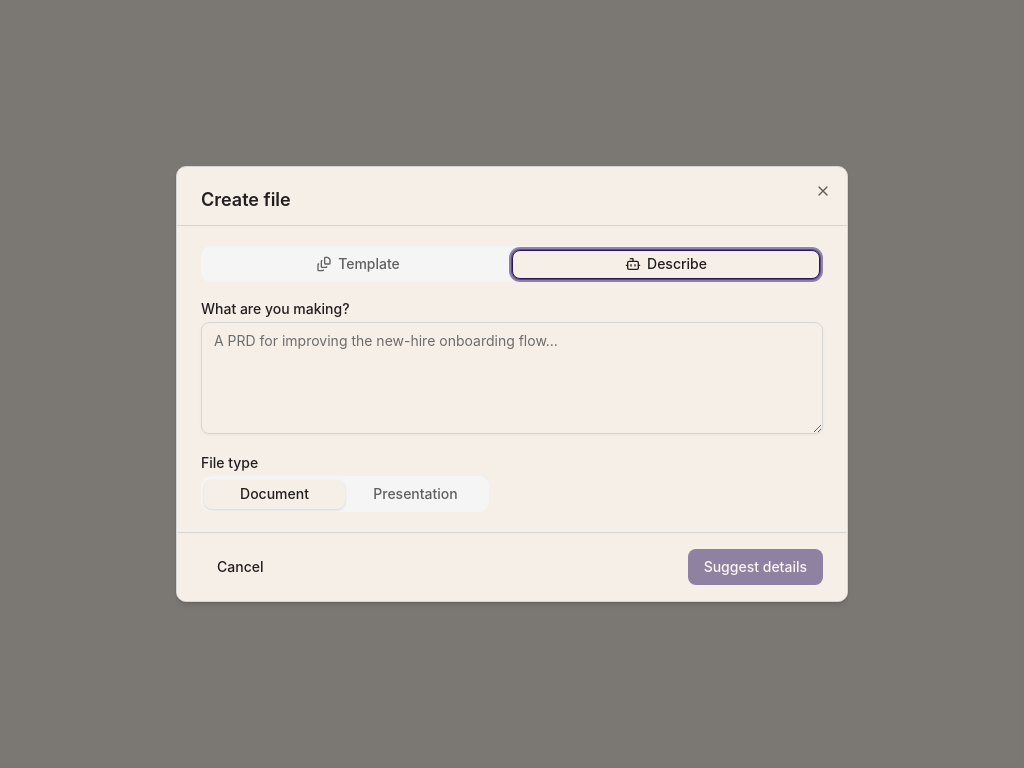
Test case: SmartCreateDialog › uses TemplateMode without invoking Gemini
Press the mouse on the tab "Template" at (358, 264), box [204,250,512,278]
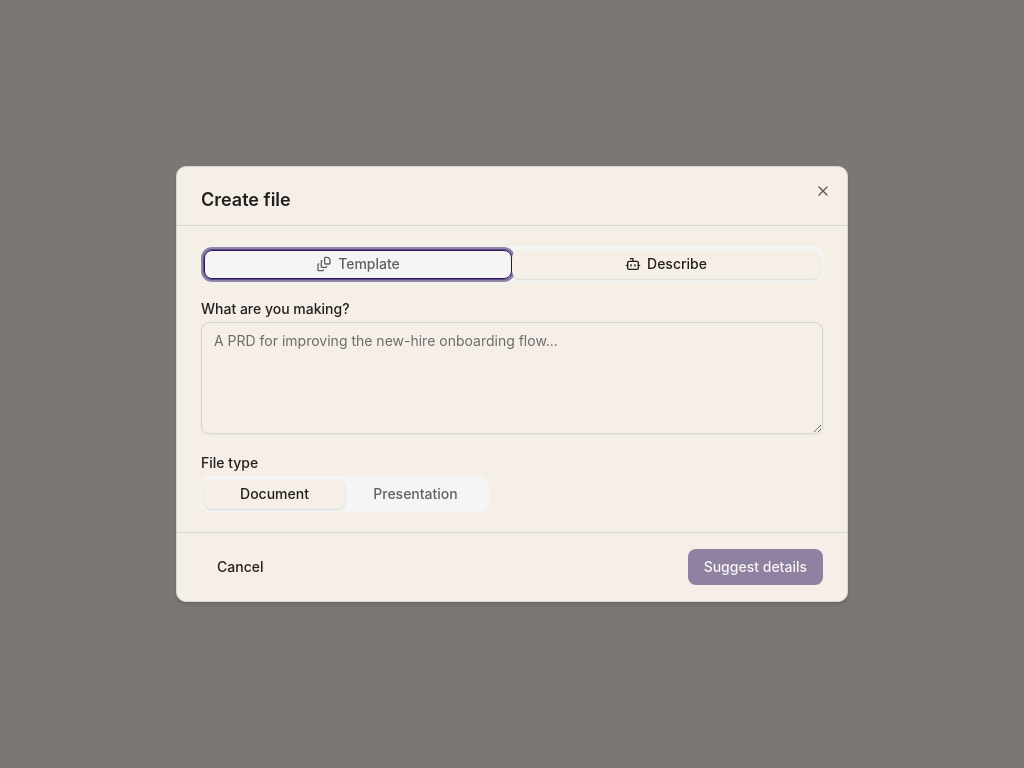
Click the tab "Template" at (358, 264), box [204,250,512,278]
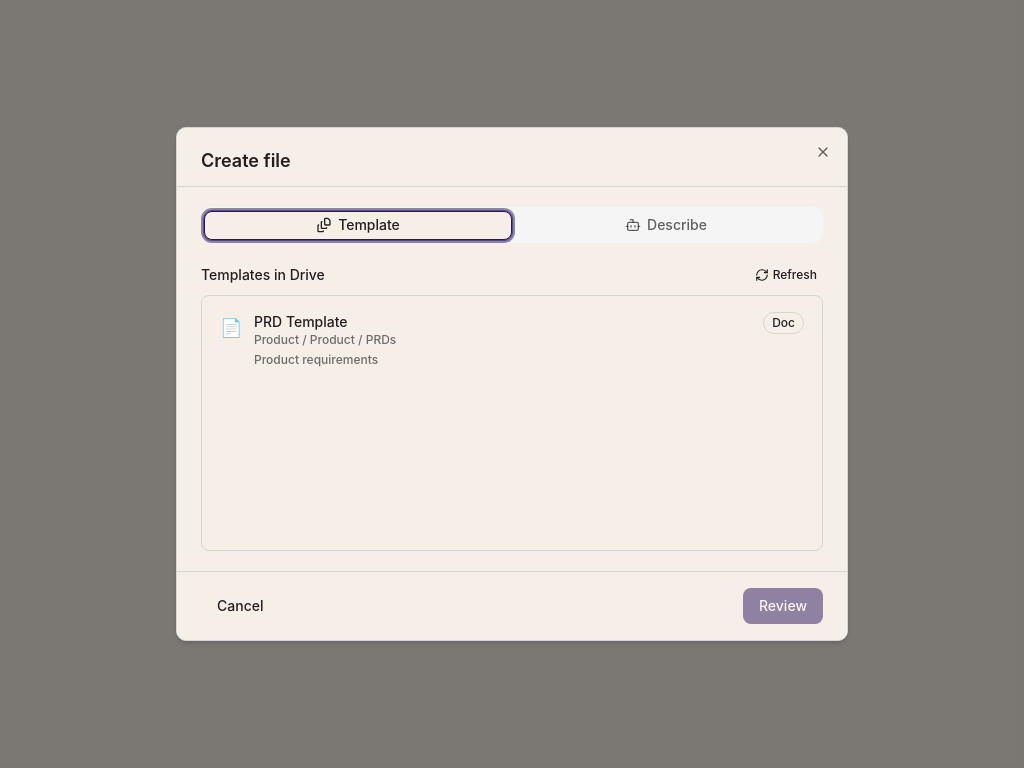
Click the button that starts with "PRD Template" at (301, 322), box [208,302,816,378]
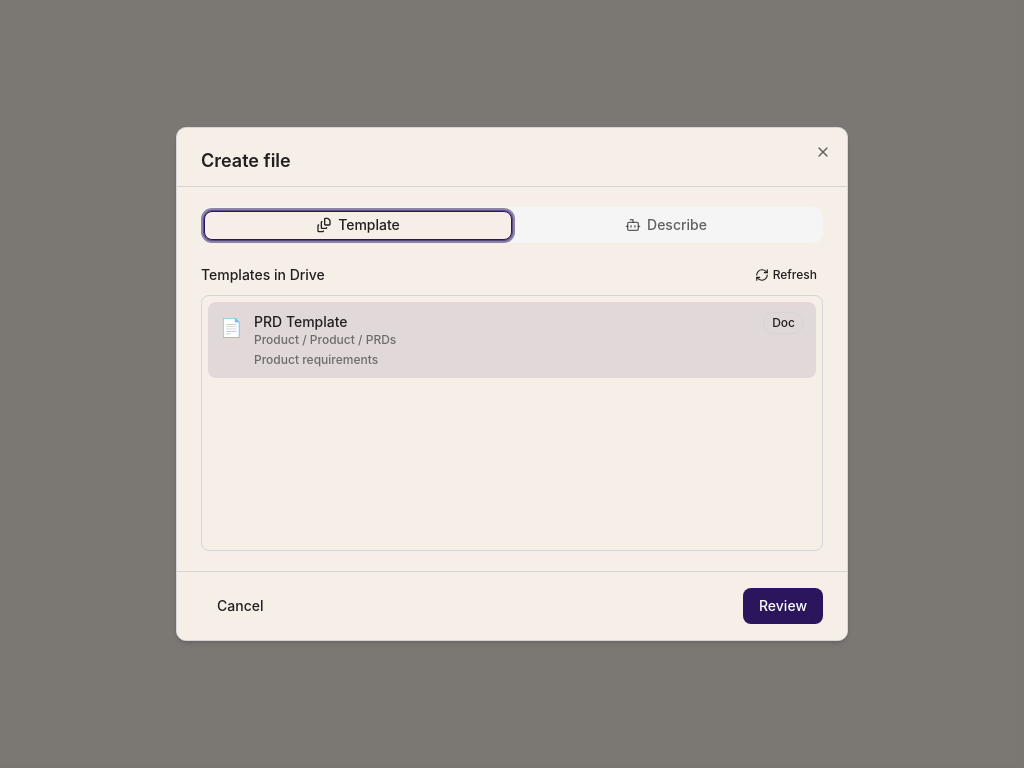
Click the button "Review" at (783, 606), box [743,588,823,624]
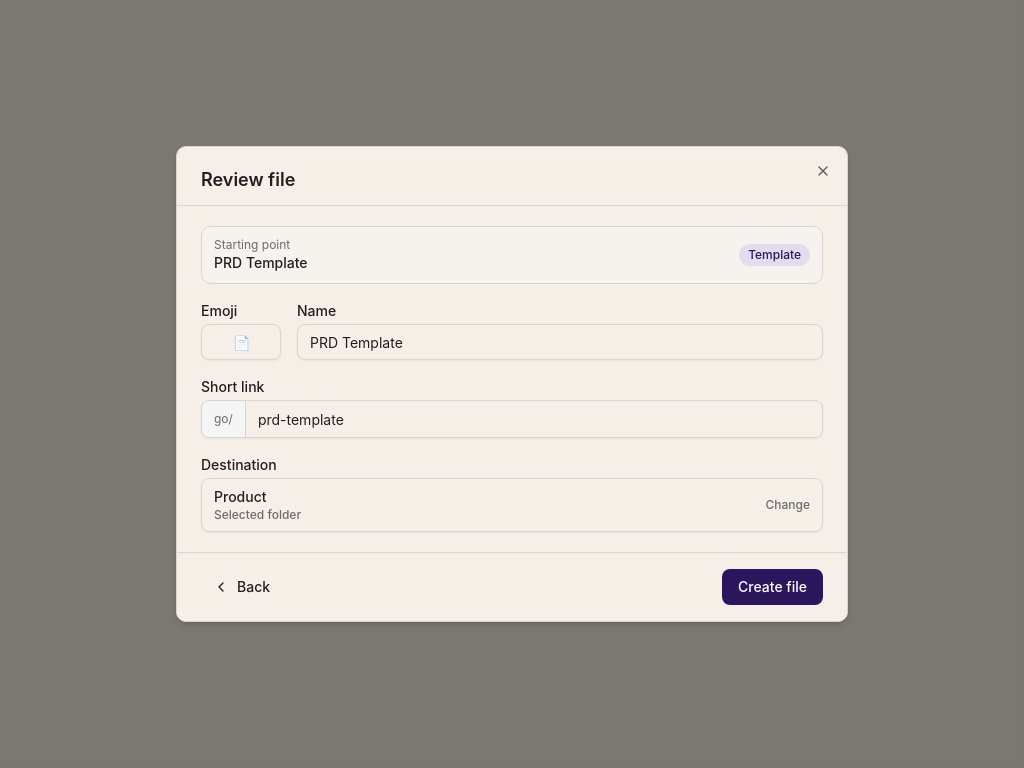
Result: the text "PRD Template" is shown at [214,253,308,273]
Result: the text "Review file" is shown at [201,169,295,190]
